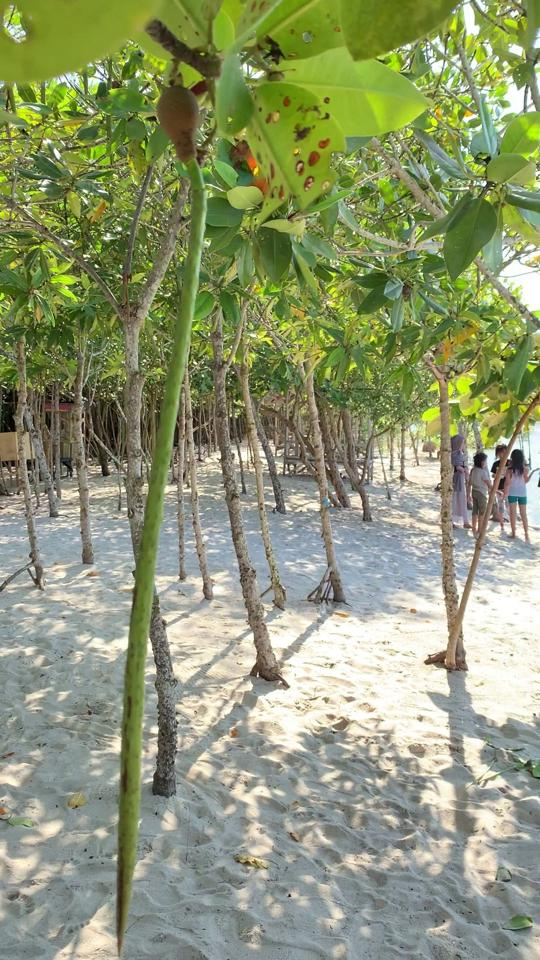mentah: (83, 66, 228, 958)
